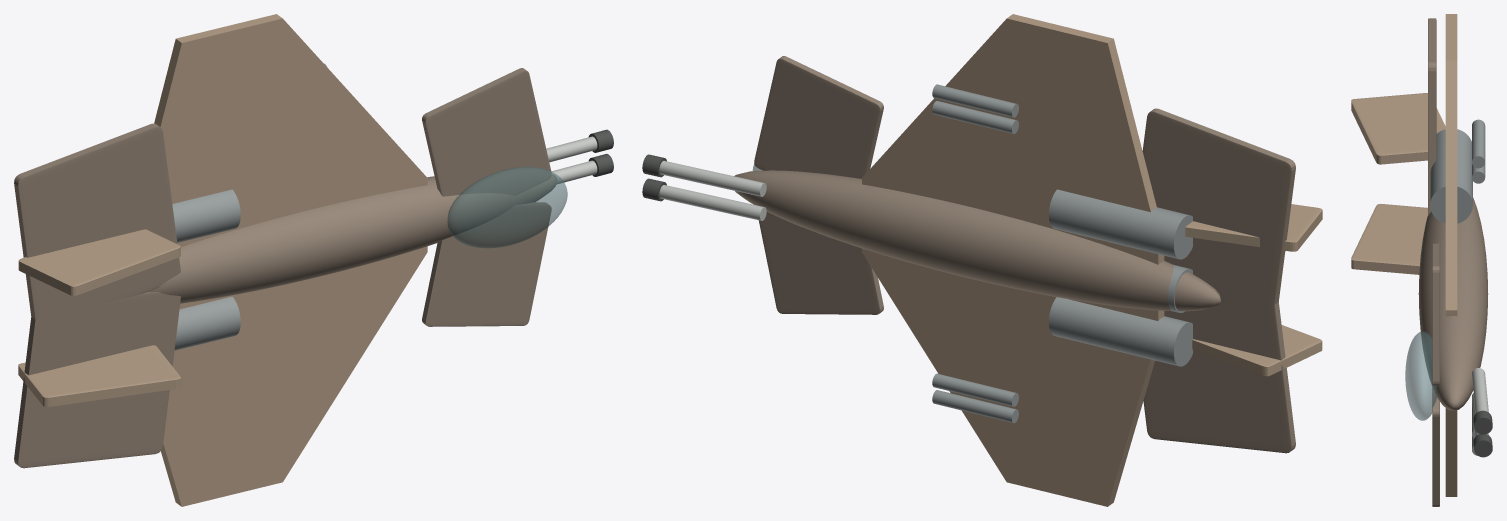
Rendered from d-u25-dominion-multirole-aircraft-lod1.glb.
3 renders of one model, left to right at view 1: azimuth 30°, elevation 25°; view 2: azimuth 150°, elevation 25°; view 3: azimuth 270°, elevation 25°, orthographic. The views are drawn at different scales.
Visible parts, largest first — view 1: combat_main_wing, combat_fuselage, combat_tailplane_1, combat_tailplane_-1, canard_1, canard_-1, combat_canopy, combat_fin_-1, combat_fin_1, combat_engine_2, combat_engine_0, combat_gun_barrel_1; view 2: combat_main_wing, combat_fuselage, combat_tailplane_1, combat_tailplane_-1, canard_1, canard_-1, combat_engine_0, combat_engine_2, combat_fin_-1, combat_fin_1, combat_gun_barrel_1, combat_gun_barrel_0 (+4 smaller); view 3: combat_fuselage, combat_main_wing, combat_fin_1, combat_fin_-1, combat_engine_2, combat_canopy, combat_tailplane_1, canard_1, canard_-1, combat_1_tube_2, combat_gun_barrel_1, combat_gun_muzzle_1 (+2 smaller).
Part boxes in pixels (x1,y1,x2,y2): combat_main_wing: [154, 14, 427, 506]; combat_fuselage: [147, 174, 556, 303]; combat_tailplane_1: [14, 123, 180, 319]; combat_tailplane_-1: [14, 292, 180, 468]; canard_1: [422, 68, 551, 196]; canard_-1: [422, 202, 551, 326]; combat_canopy: [447, 167, 567, 248]; combat_fin_-1: [18, 345, 180, 406]; combat_fin_1: [18, 229, 180, 295]; combat_engine_2: [172, 189, 240, 242]; combat_engine_0: [174, 296, 240, 350]; combat_gun_barrel_1: [546, 136, 597, 162]; combat_main_wing: [862, 14, 1164, 506]; combat_fuselage: [734, 170, 1220, 311]; combat_tailplane_1: [1142, 108, 1295, 309]; combat_tailplane_-1: [1143, 291, 1295, 453]; canard_1: [754, 56, 883, 178]; canard_-1: [758, 212, 883, 314]; combat_engine_0: [1048, 297, 1192, 366]; combat_engine_2: [1048, 189, 1192, 259]; combat_fin_-1: [1192, 325, 1322, 376]; combat_fin_1: [1185, 204, 1322, 251]; combat_gun_barrel_1: [659, 160, 766, 196]; combat_gun_barrel_0: [659, 185, 766, 220]; combat_fuselage: [1418, 197, 1488, 410]; combat_main_wing: [1445, 14, 1457, 496]; combat_fin_1: [1351, 93, 1445, 164]; combat_fin_-1: [1351, 204, 1427, 274]; combat_engine_2: [1430, 129, 1472, 223]; combat_canopy: [1405, 331, 1436, 420]; combat_tailplane_1: [1428, 18, 1436, 215]; canard_1: [1432, 243, 1439, 385]; canard_-1: [1432, 387, 1439, 506]; combat_1_tube_2: [1472, 119, 1485, 168]; combat_gun_barrel_1: [1472, 368, 1488, 413]; combat_gun_muzzle_1: [1473, 410, 1492, 434].
Size of what is drawn, in the model's own units: 14.93 by 10.66 by 3.14.
